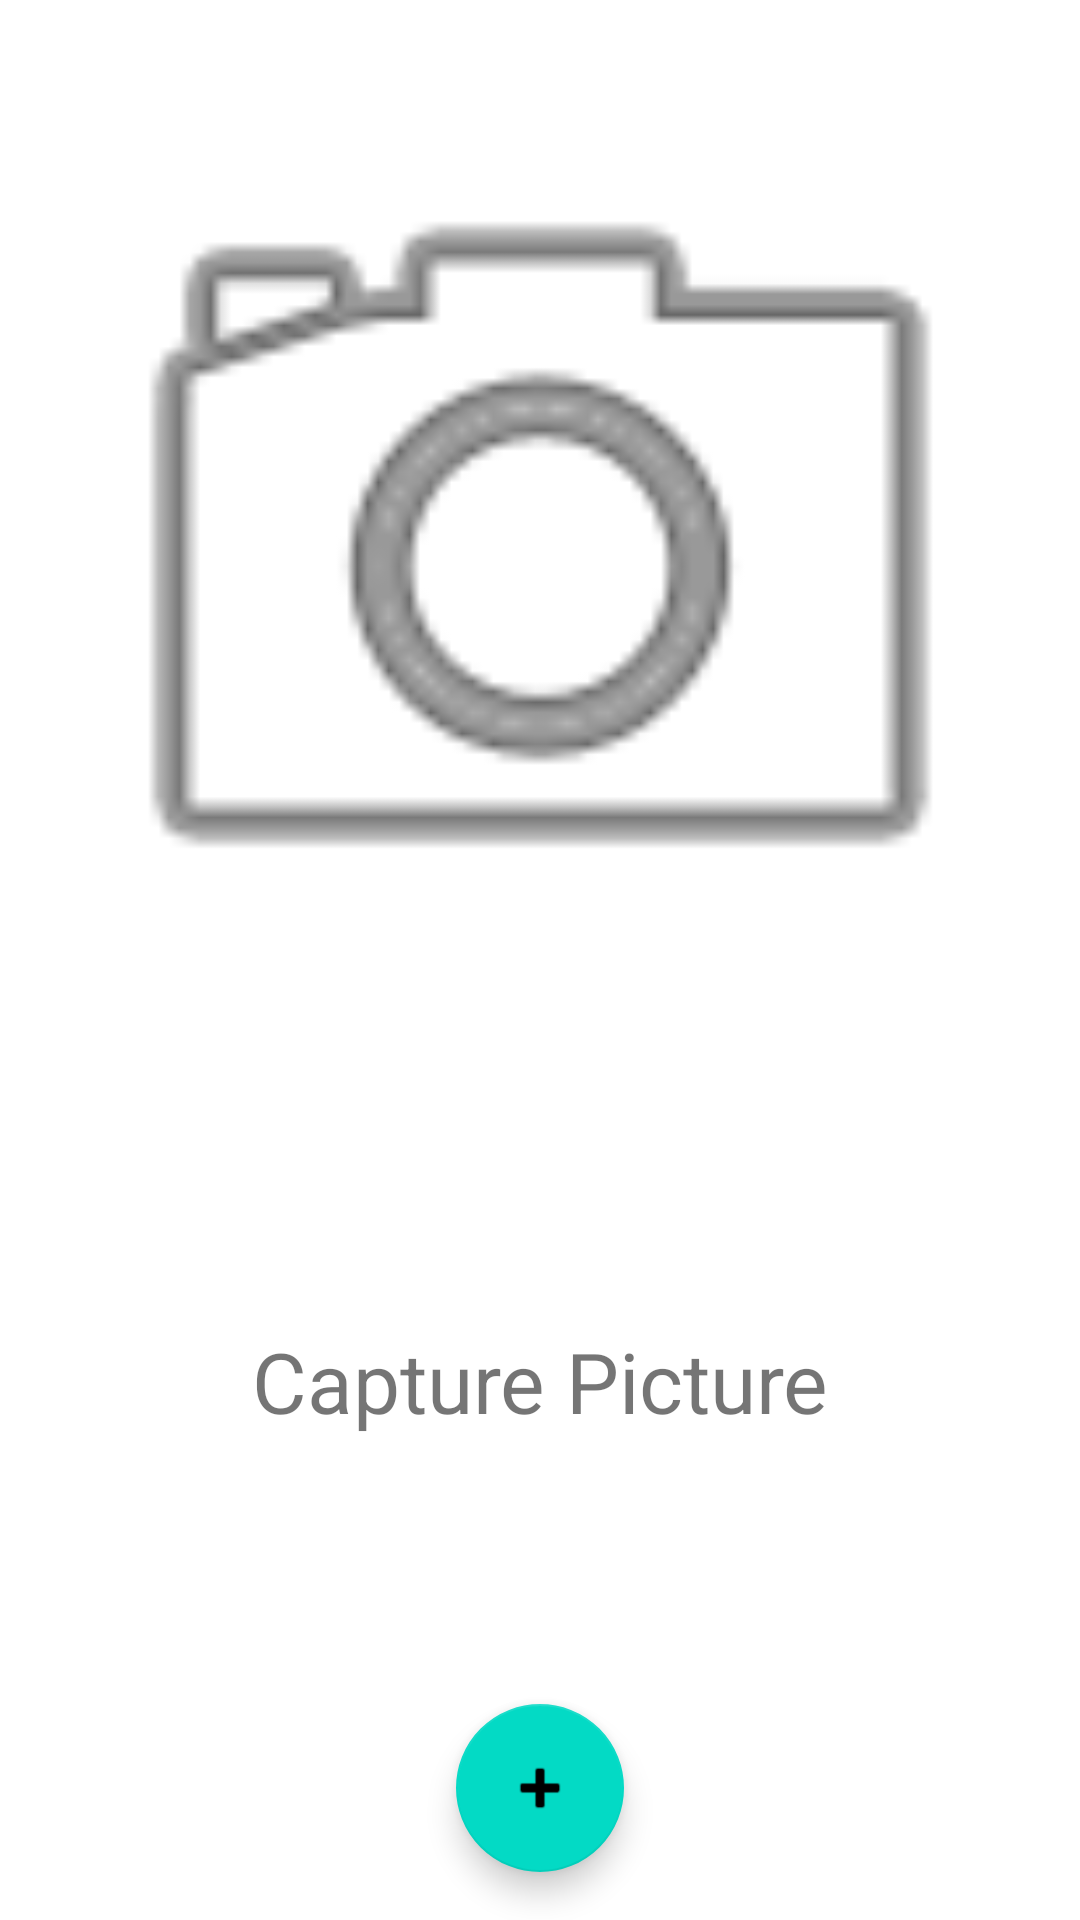

Named icons in this screenshot (1080px x 1920px) and their centers, (x,y):
add: (540,1788)
